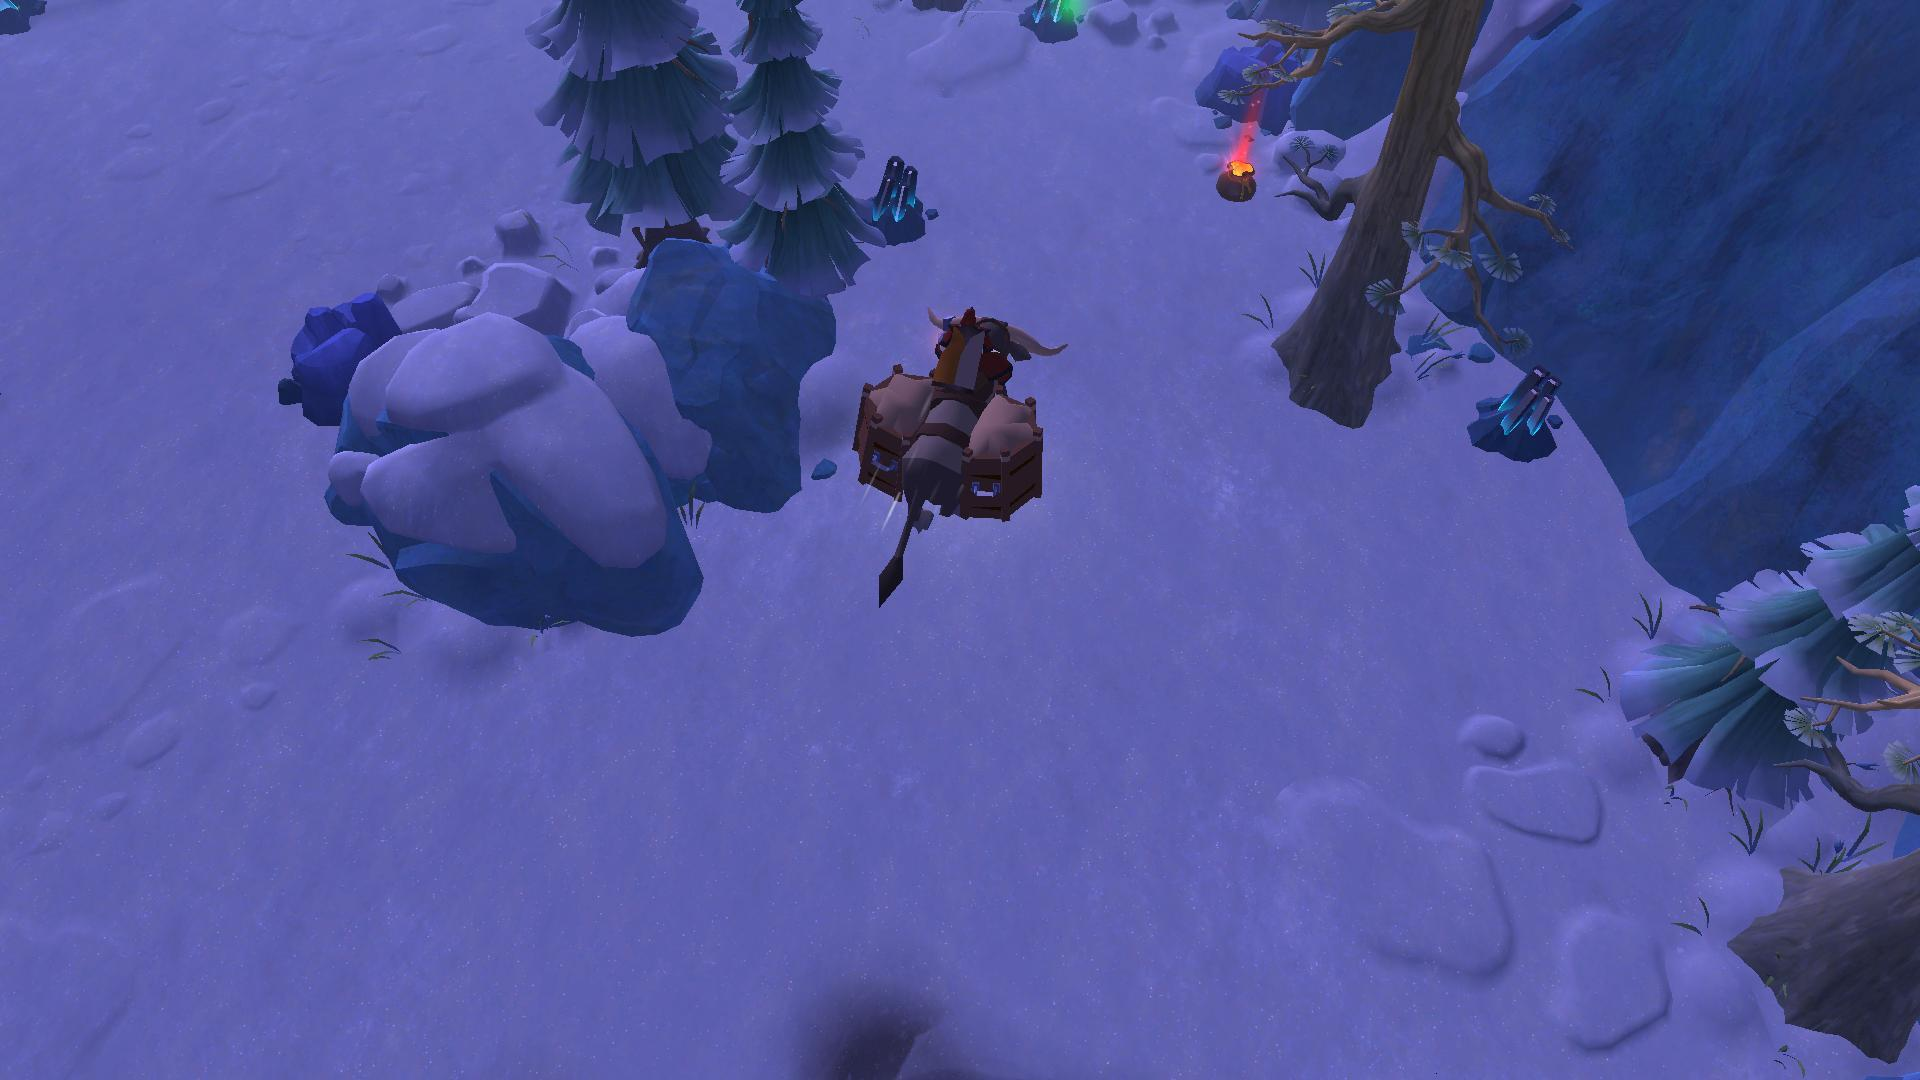ore_t4: (1485, 363, 1559, 446), (862, 150, 923, 231)
rock_t4: (277, 287, 398, 414), (1193, 33, 1309, 129)
